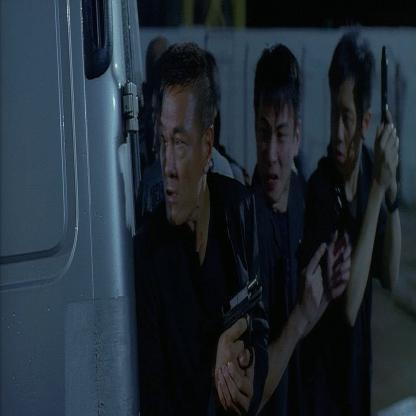gun: (226, 246, 271, 378), (317, 183, 352, 275), (376, 34, 401, 137)
